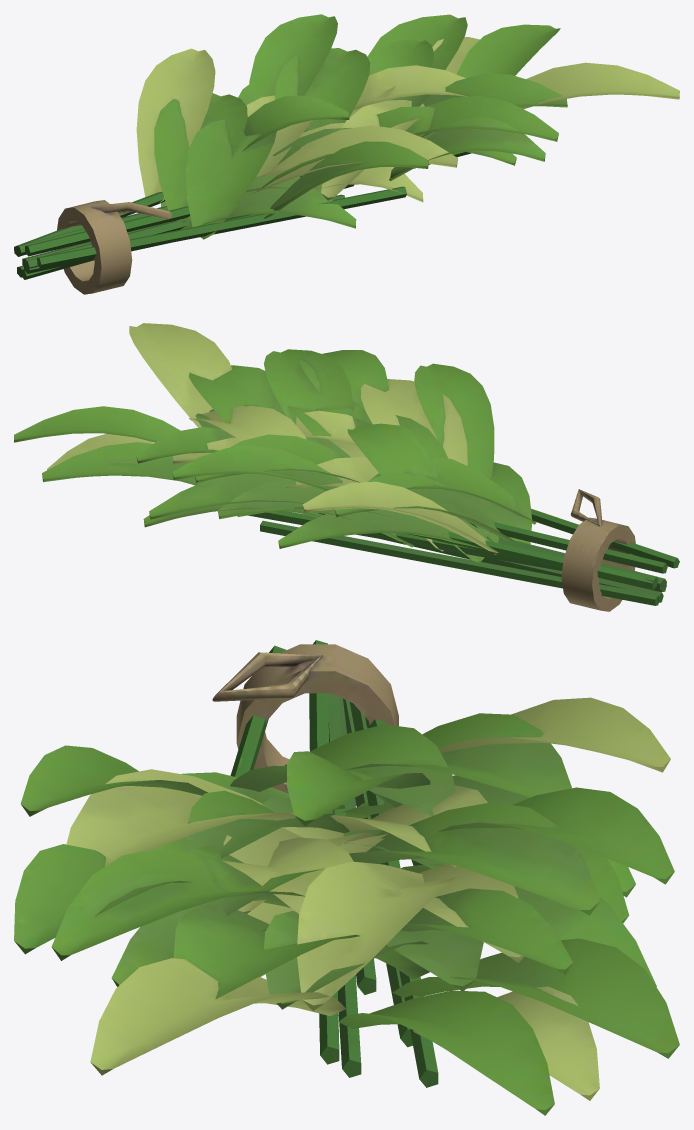
Rendered from ervas.glb.
3 renders of one model, top to bottom at view 1: azimuth 30°, elevation 25°; view 2: azimuth 150°, elevation 25°; view 3: azimuth 270°, elevation 25°, orthographic. The views are drawn at different scales.
Parts seen in each view (by area): view 1: folhas, talos, amarra; view 2: folhas, talos, amarra; view 3: folhas, amarra, talos.
Boxes of the visible parts, x1,y1,x2,y2 form: folhas: [136, 14, 679, 239]; talos: [14, 151, 471, 279]; amarra: [57, 200, 171, 294]; folhas: [14, 323, 536, 562]; talos: [248, 508, 679, 605]; amarra: [561, 489, 635, 611]; folhas: [14, 697, 679, 1115]; amarra: [212, 644, 398, 805]; talos: [230, 640, 438, 1087].
Bounding box in the file's own units: 0.175 × 0.0365 × 0.0943.
1 material, 1 textured.
